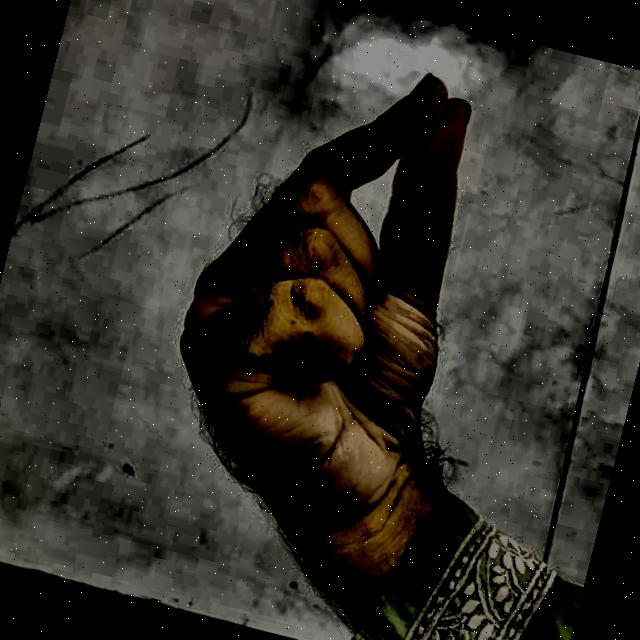Anusshar: (90, 3, 582, 635)
